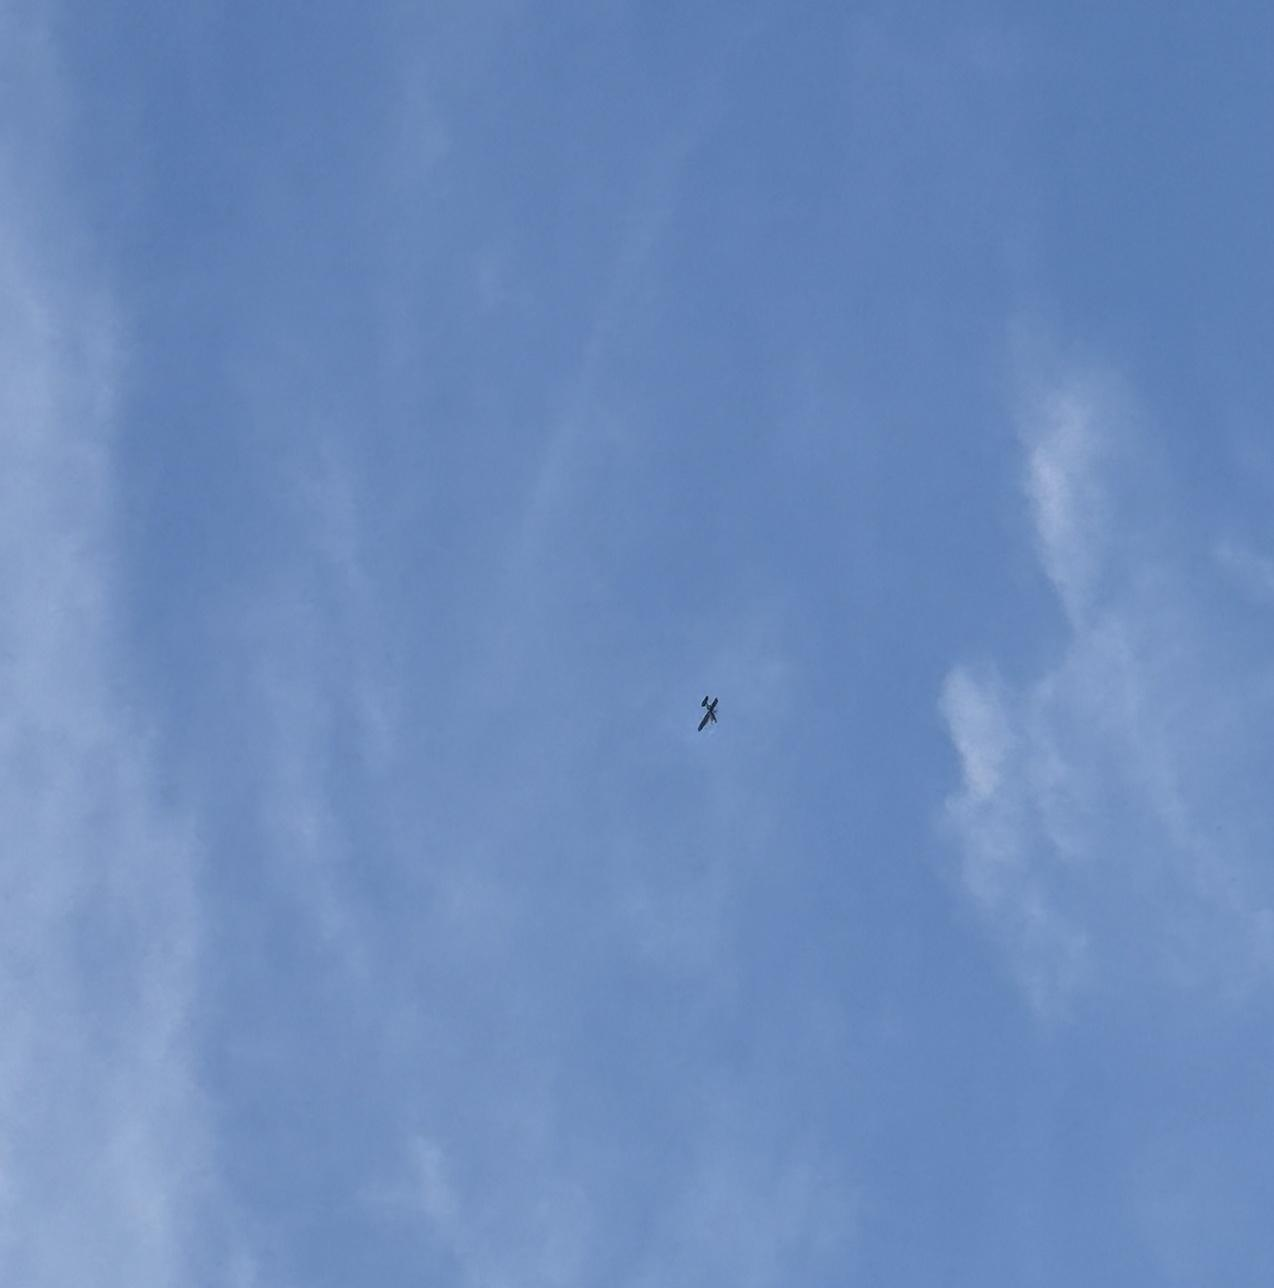Plane: (675, 675, 743, 754)
